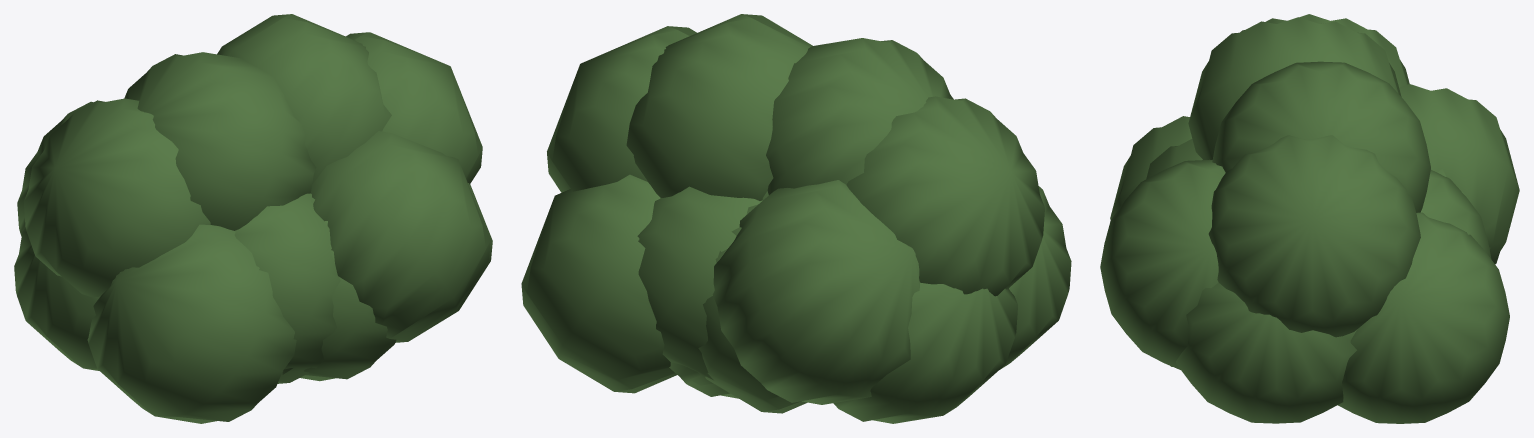
Rendered from Bush2.fbx.
3 renders of one model, left to right at view 1: azimuth 30°, elevation 25°; view 2: azimuth 150°, elevation 25°; view 3: azimuth 270°, elevation 25°, orthographic. The views are drawn at different scales.
Visible parts, largest first — view 1: Bush2; view 2: Bush2; view 3: Bush2.
Part boxes in pixels (x1,y1,x2,y2): Bush2: (14, 14, 492, 423); Bush2: (521, 14, 1071, 423); Bush2: (1100, 14, 1519, 423).
Bounding box in the file's own units: 246 × 344 × 285.
